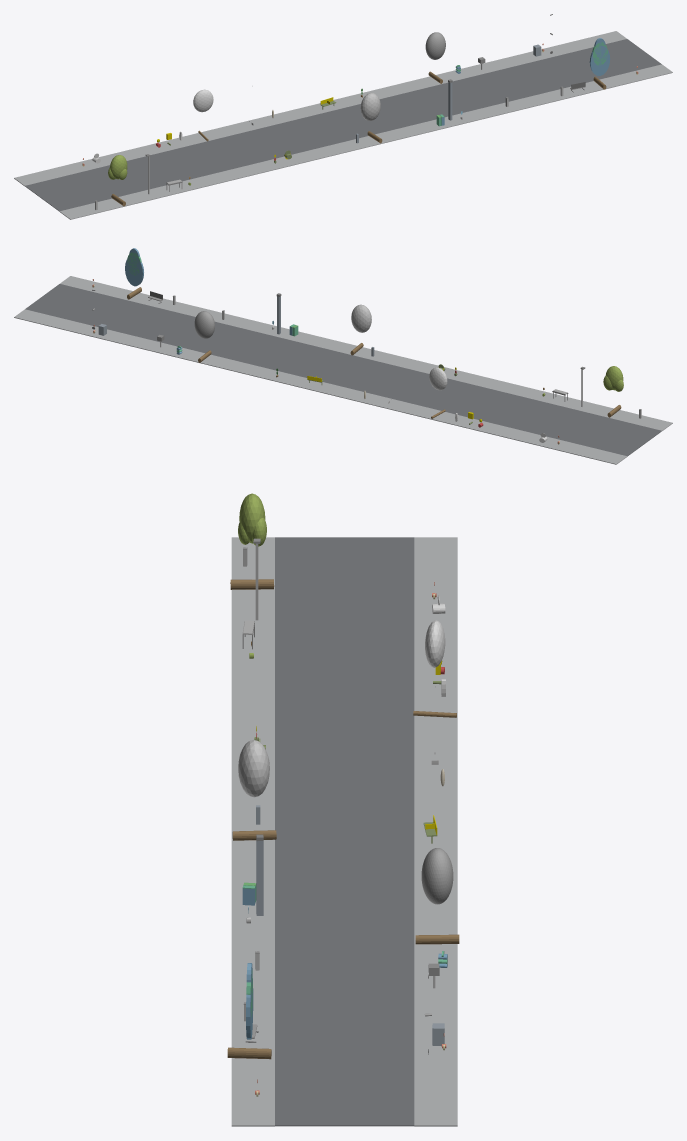
The picture shows the model from 3 angles, top to bottom: view 1: azimuth 30°, elevation 25°; view 2: azimuth 150°, elevation 25°; view 3: azimuth 270°, elevation 25°; orthographic projection. The views are drawn at different scales.
Parts seen in each view (by area): view 1: road_slab, sidewalk_left, sidewalk_right, inst_0016, inst_0014, inst_0015, inst_0012, inst_0013; view 2: road_slab, sidewalk_right, sidewalk_left, inst_0016, inst_0014, inst_0015, inst_0012, inst_0013; view 3: road_slab, sidewalk_right, sidewalk_left, inst_0015, inst_0014, inst_0012, inst_0016, inst_0013.
Boxes of the visible parts, <box> form: road_slab: <box>25,39,661,211</box>; sidewalk_left: <box>59,64,672,219</box>; sidewalk_right: <box>14,31,626,186</box>; inst_0016: <box>589,38,610,89</box>; inst_0014: <box>360,93,382,143</box>; inst_0015: <box>425,32,445,83</box>; inst_0012: <box>108,155,127,206</box>; inst_0013: <box>193,89,213,141</box>; road_slab: <box>25,284,661,456</box>; sidewalk_right: <box>14,309,627,464</box>; sidewalk_left: <box>60,276,672,430</box>; inst_0016: <box>125,248,143,299</box>; inst_0014: <box>350,304,371,355</box>; inst_0015: <box>194,311,214,362</box>; inst_0012: <box>603,366,623,417</box>; inst_0013: <box>429,367,447,418</box>; road_slab: <box>275,537,414,1126</box>; sidewalk_right: <box>414,537,457,1126</box>; sidewalk_left: <box>231,537,274,1126</box>; inst_0015: <box>415,848,459,944</box>; inst_0014: <box>232,739,276,840</box>; inst_0012: <box>230,493,274,589</box>; inst_0016: <box>227,963,271,1059</box>; inst_0013: <box>413,620,456,717</box>.
Bounding box in the file's own units: 80 × 6.08 × 13.32.
